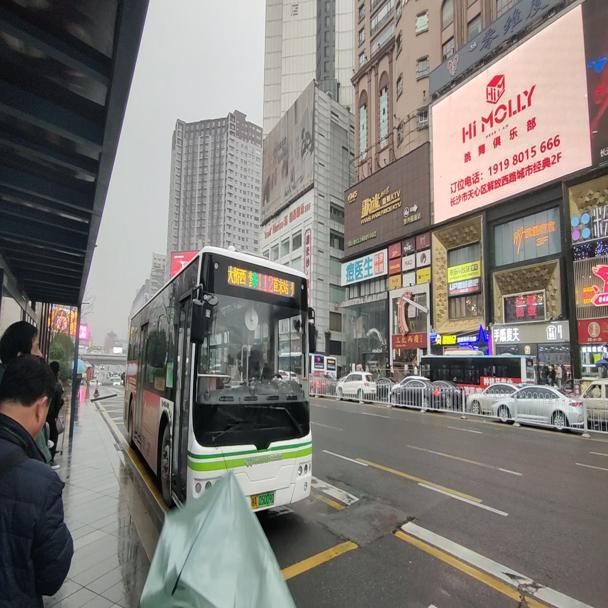bus: (121, 243, 316, 521)
screen: (257, 271, 273, 292)
